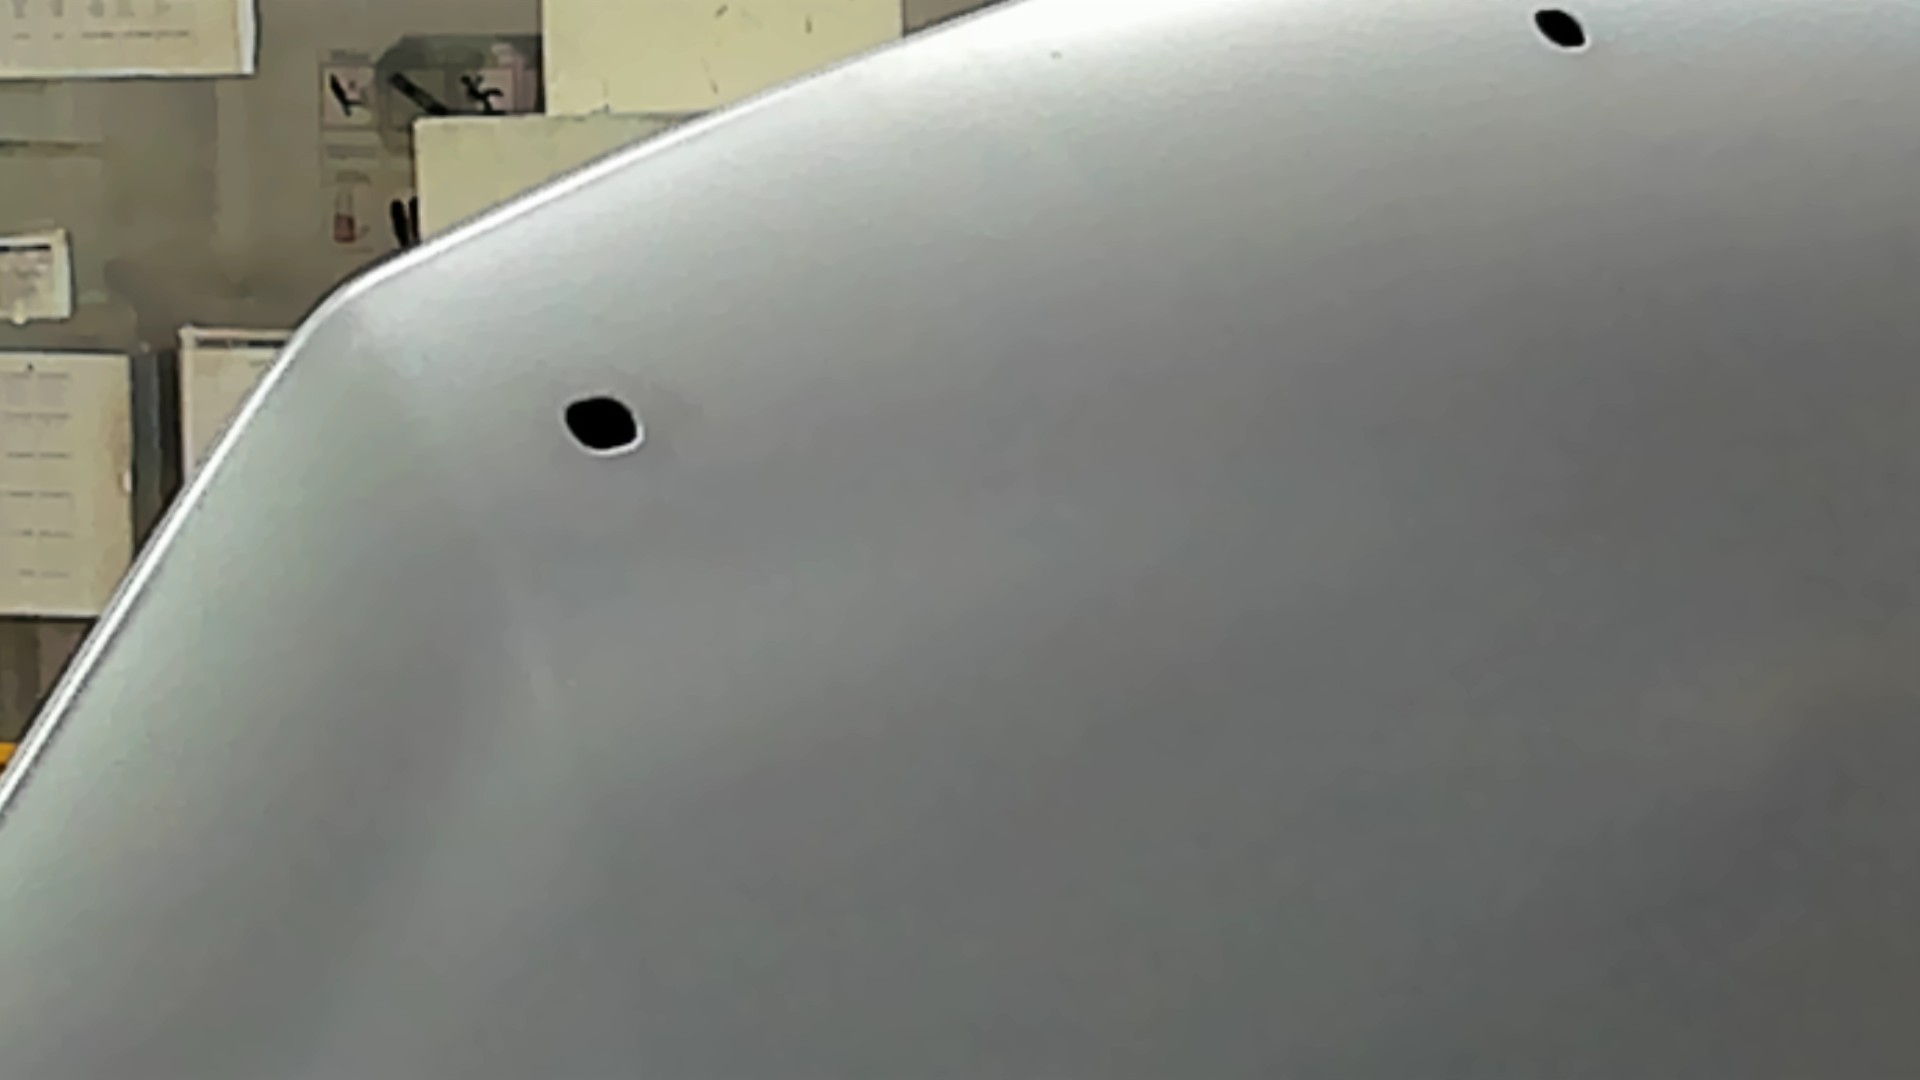amorfo: (556, 392, 640, 459), (1530, 7, 1592, 55)
capo: (742, 146, 1920, 1080)
